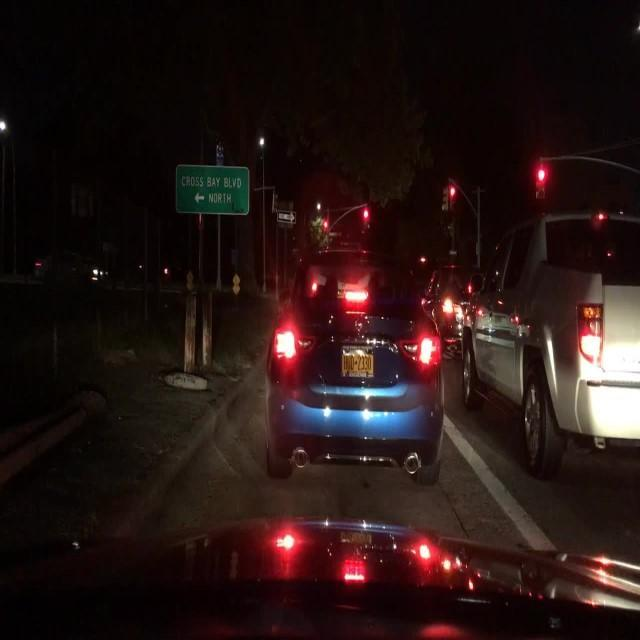normal: (270, 259, 449, 483)
